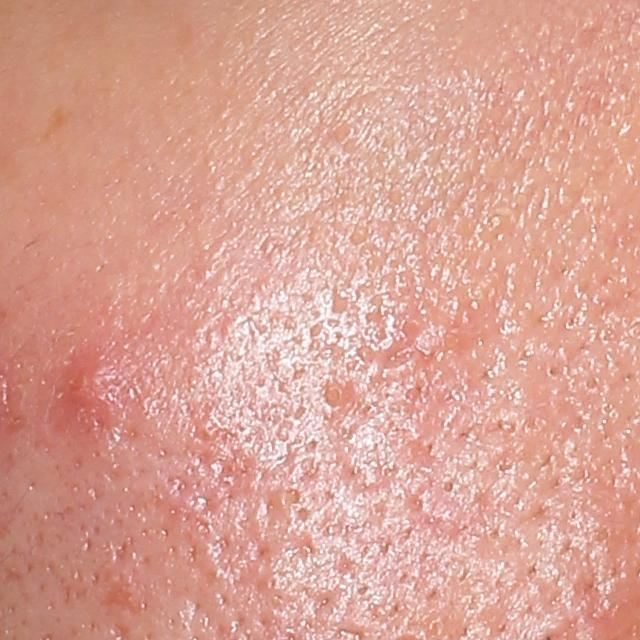comedo: (317, 375, 348, 412)
melasma: (43, 105, 67, 142)
papule: (62, 354, 115, 411)
